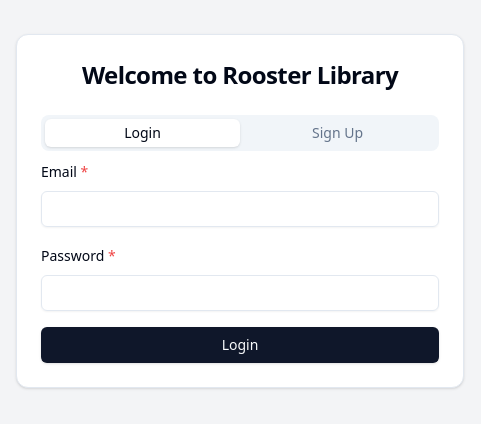
it: LoginPage › Login Submission › displays error message on failed login
Type "test@example.com" into the field labelled "Email *".
click(240, 209); type("test@example.com")  # box [41,191,439,227]
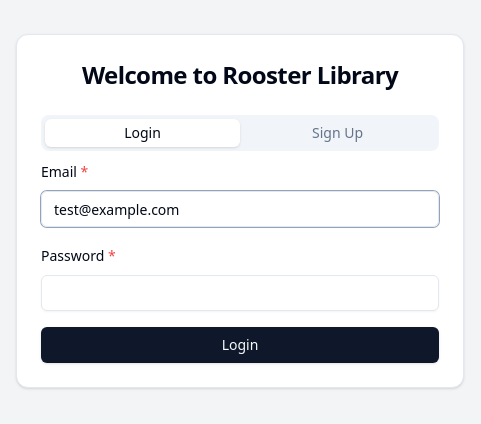
Type "wrongpassword" into the password field labelled "Password *".
click(240, 293); type("wrongpassword")  # box [41,275,439,311]
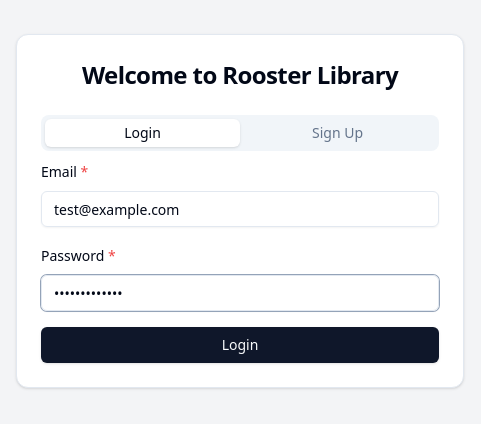
Click the button "Login".
click(240, 345)  # box [41,327,439,363]
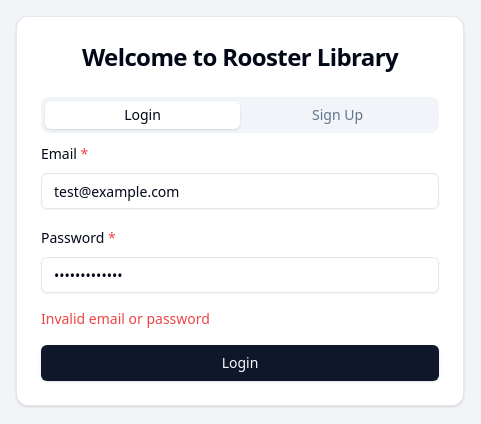
Check: the text "Invalid email or password" is shown, box [41,309,210,328]
